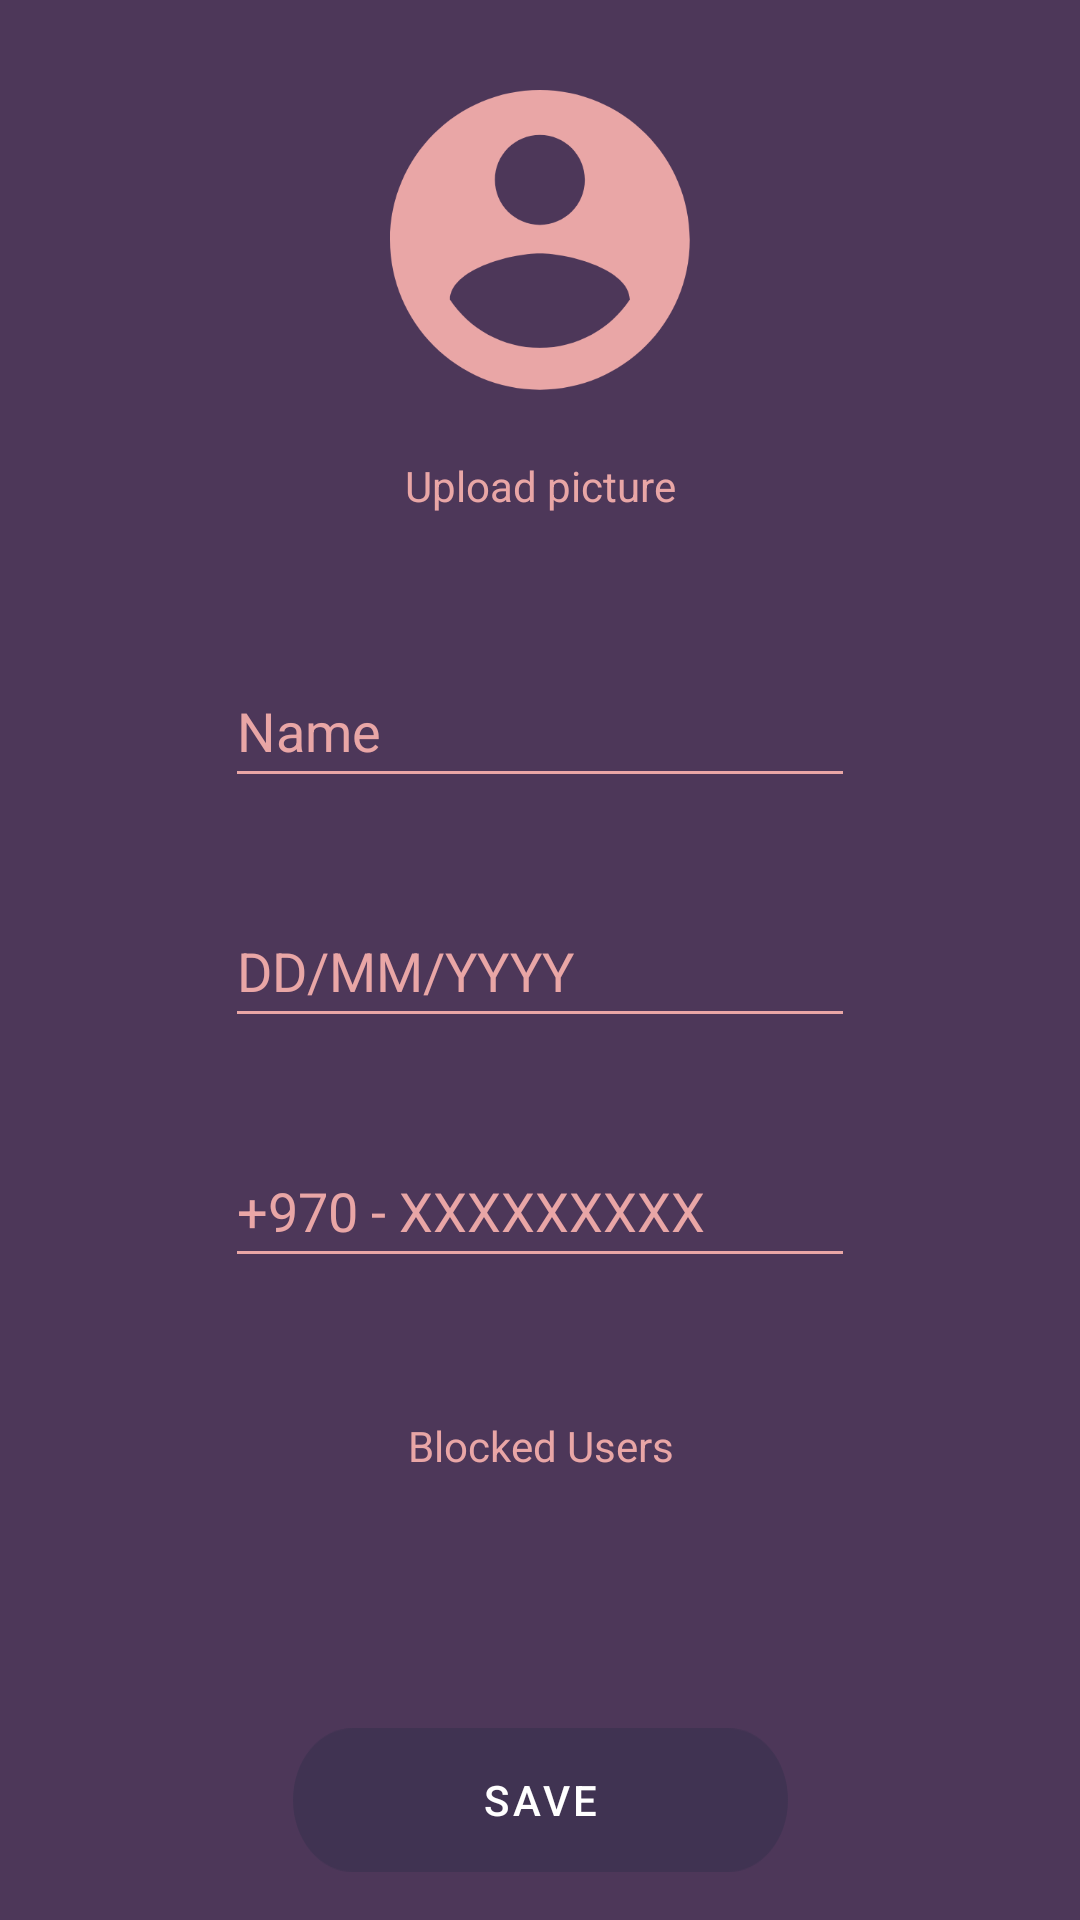

Named icons in this screenshot (1080×1920) and their bounding boxes, (x1, y1, x2, y2):
account circle: (390, 90, 690, 390)
